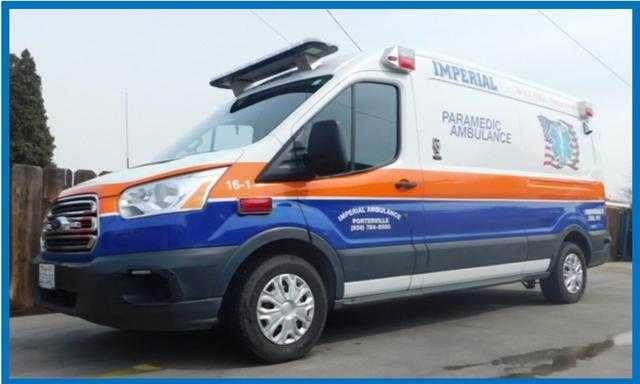car: (31, 38, 612, 364)
